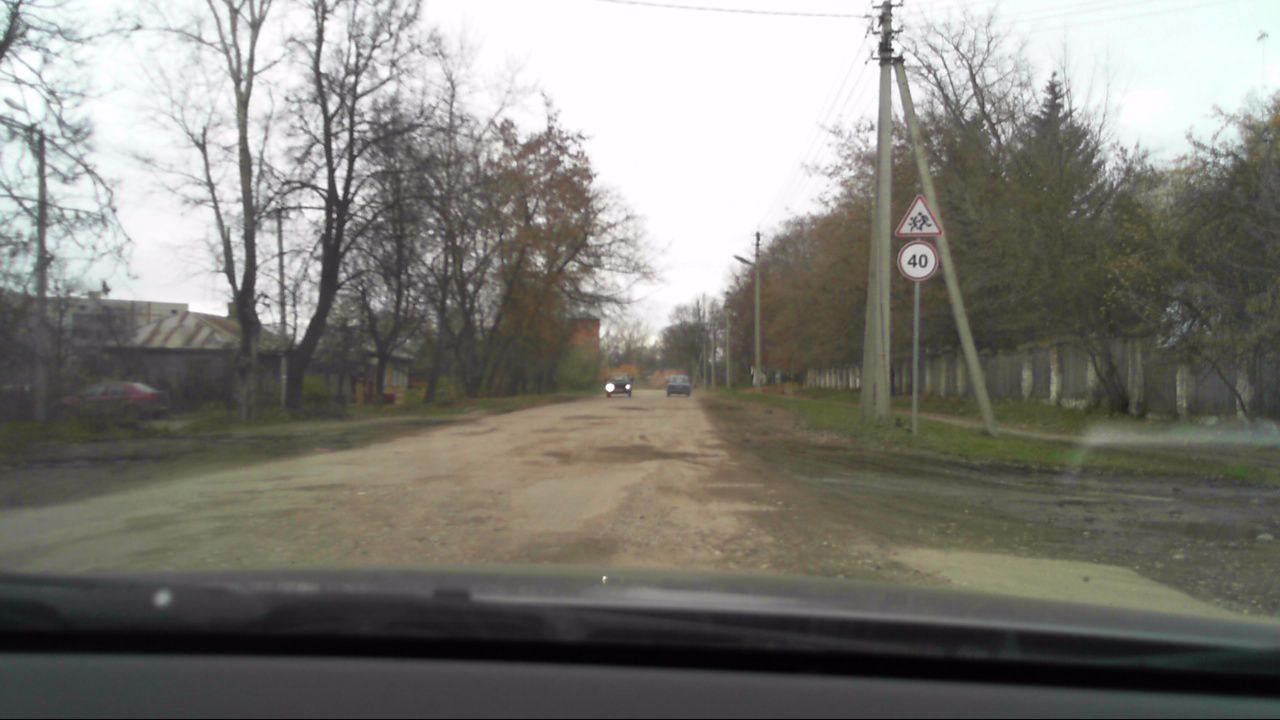speed_warning_40: (894, 240, 942, 283)
